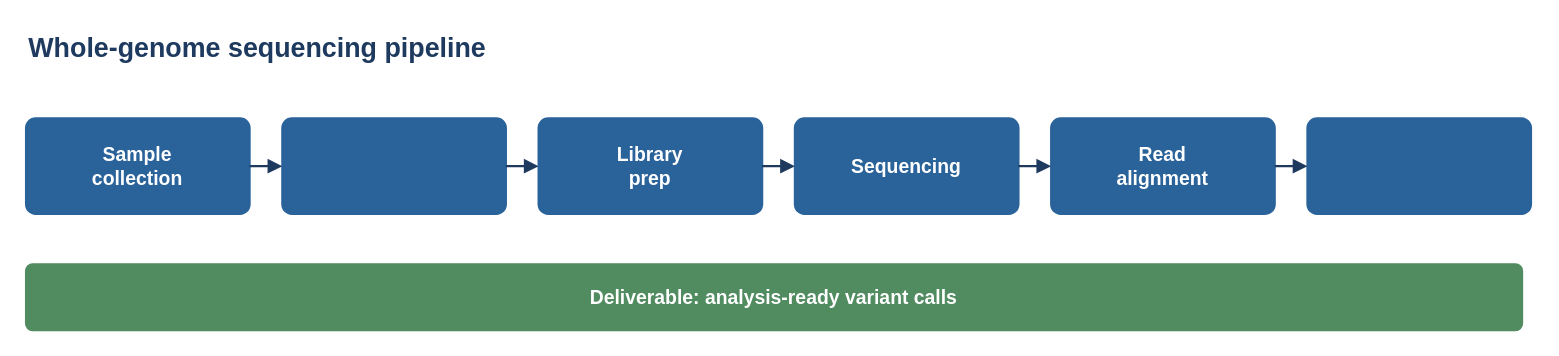
This 1559x356 diagram has some shape labels left out. Each missing label, with the centre of its shape:
DNA extraction: the point at 393,165
Variant calling: the point at 1418,165
